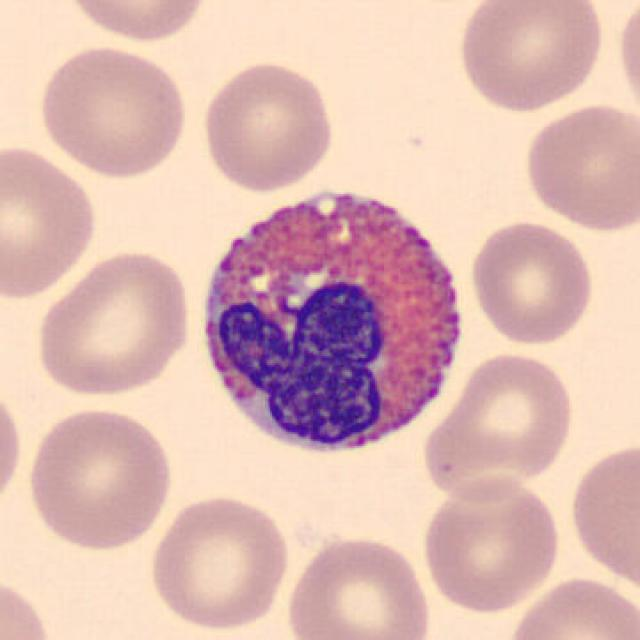Eosinophil: (183, 167, 480, 469)
RBC: (30, 245, 196, 399), (420, 348, 578, 498), (23, 402, 176, 554), (34, 40, 192, 180), (418, 472, 564, 616), (146, 490, 293, 633), (197, 56, 338, 194), (453, 0, 608, 115), (280, 530, 435, 640), (466, 217, 597, 347), (0, 139, 101, 301), (519, 98, 638, 234), (566, 435, 638, 596), (503, 573, 638, 640), (57, 0, 215, 46), (0, 571, 59, 640), (0, 374, 27, 516), (613, 0, 640, 120)
